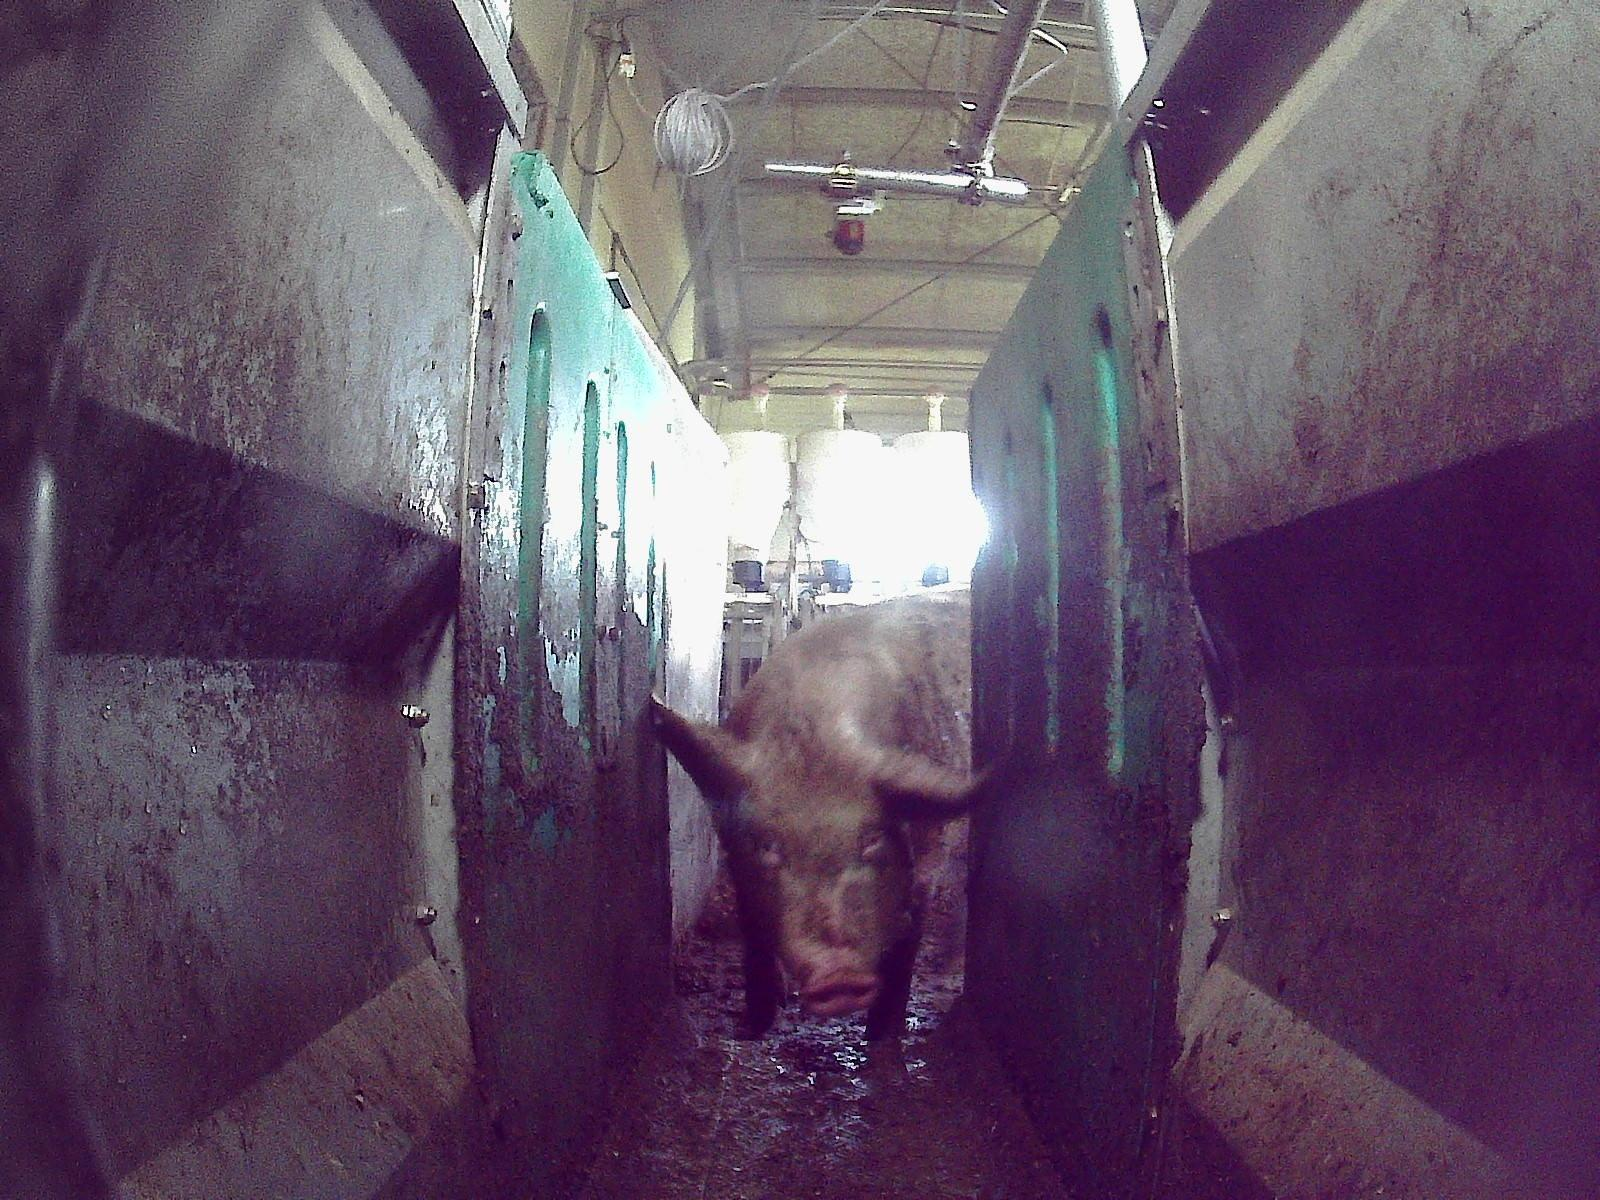Face: (718, 727, 911, 1009)
